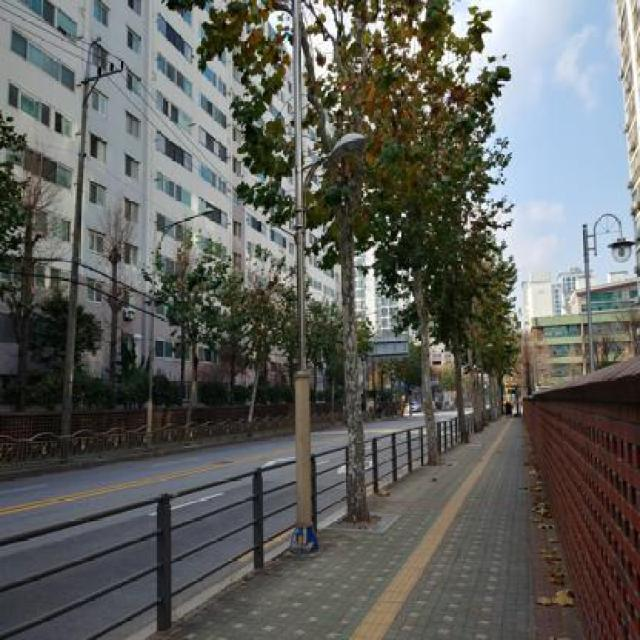pole: (277, 134, 322, 562)
